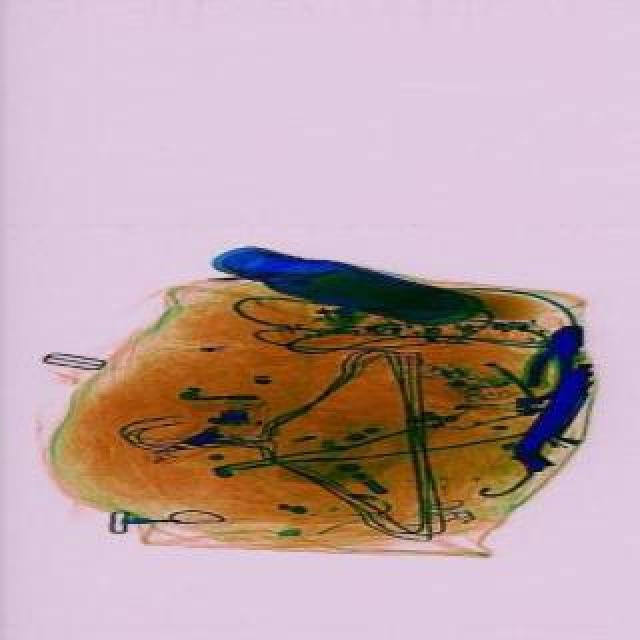wrench: (522, 314, 586, 398)
